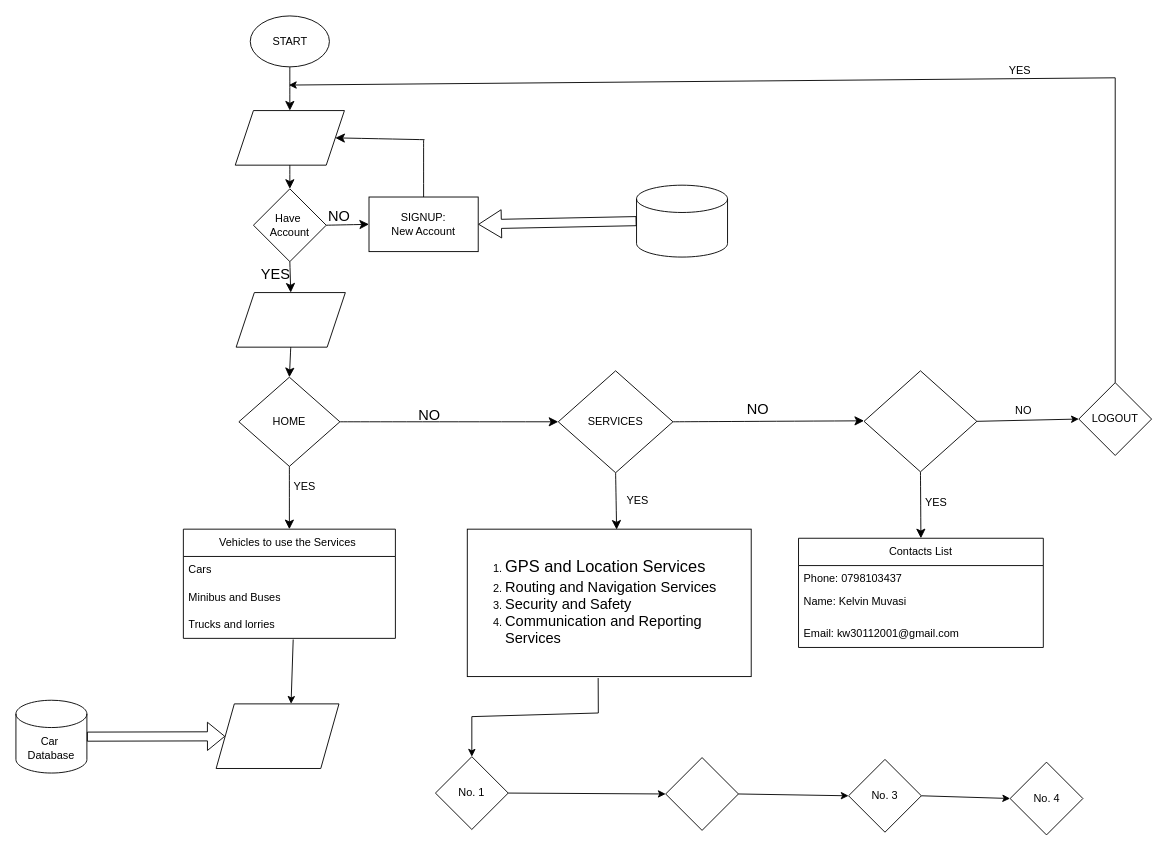
The diagram is 1168 pixels wide and 851 high, and some of its shapes have lost their labels. The shapes that lost their labels are listed below. From the top down, each one's box as (x1, y1, x2, y2) in pixels, then its label:
(234, 110, 344, 165): LOGIN
(636, 184, 728, 257): User DATABASE
(235, 292, 345, 347): Welcome Note
(863, 370, 977, 472): ADMIN CONTACTS
(215, 703, 339, 768): More details of the vihicles
(665, 757, 738, 830): No. 2
